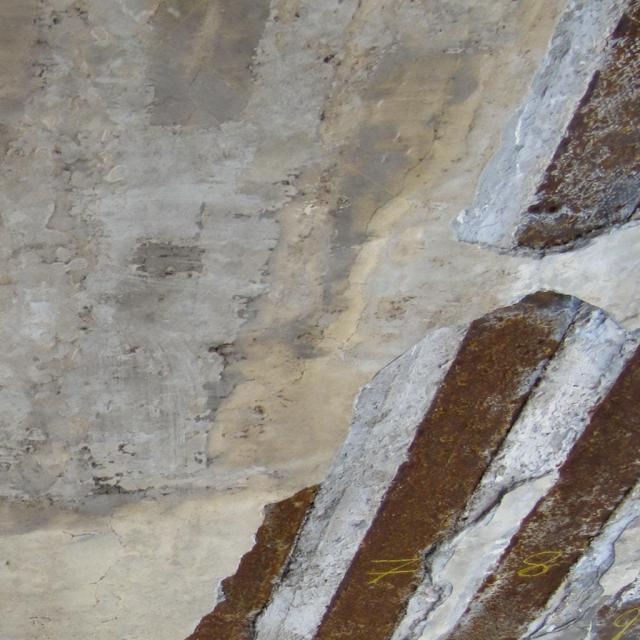D10: (514, 2, 639, 257)
